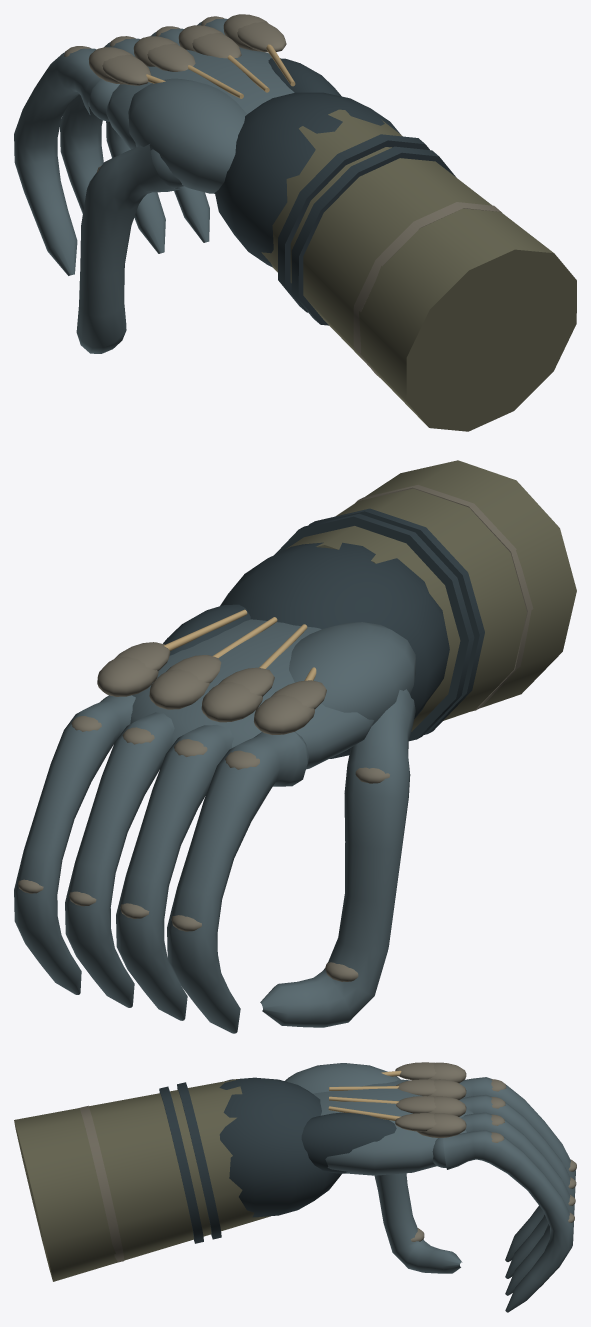
The model's file is glove_round.glb.
3 views of the same model, one above another, from view 1: azimuth 30°, elevation 25°; view 2: azimuth 150°, elevation 25°; view 3: azimuth 270°, elevation 25° (orthographic). The views are drawn at different scales.
Bounding box in the file's own units: 0.1319 × 0.1383 × 0.3104.
